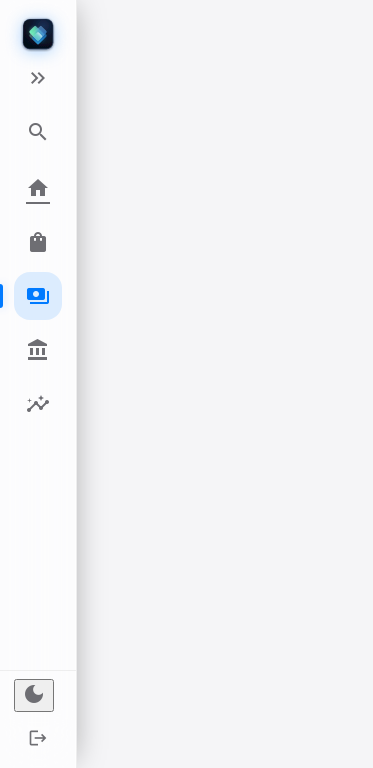
Scenario: MenuComponent › modo compacto › elegir una sección navega y cierra el menú emergente
Click the 5th button with class "rail-grupo". click: x=38, y=404
box: [14,380,62,428]
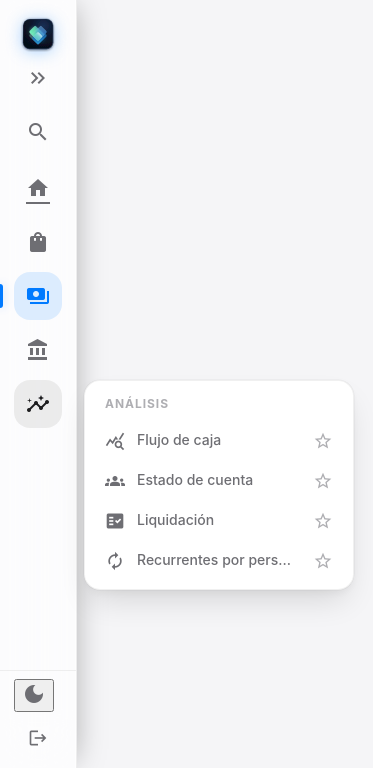
Click the link with class "item-enlace" showing "Liquidación". click: x=160, y=521
box: [105,511,214,531]
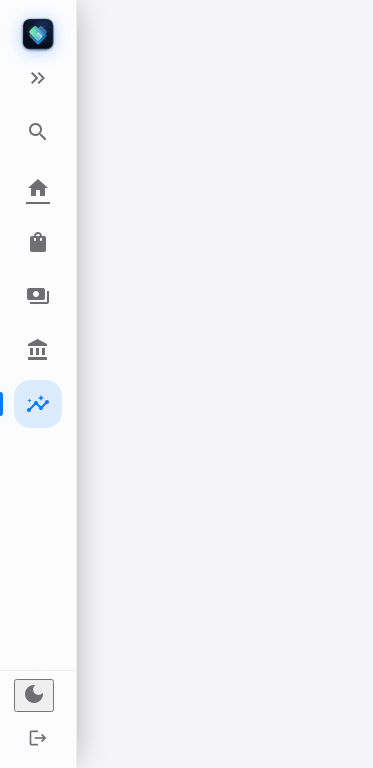
Check: the element with class "flyout" is gone
